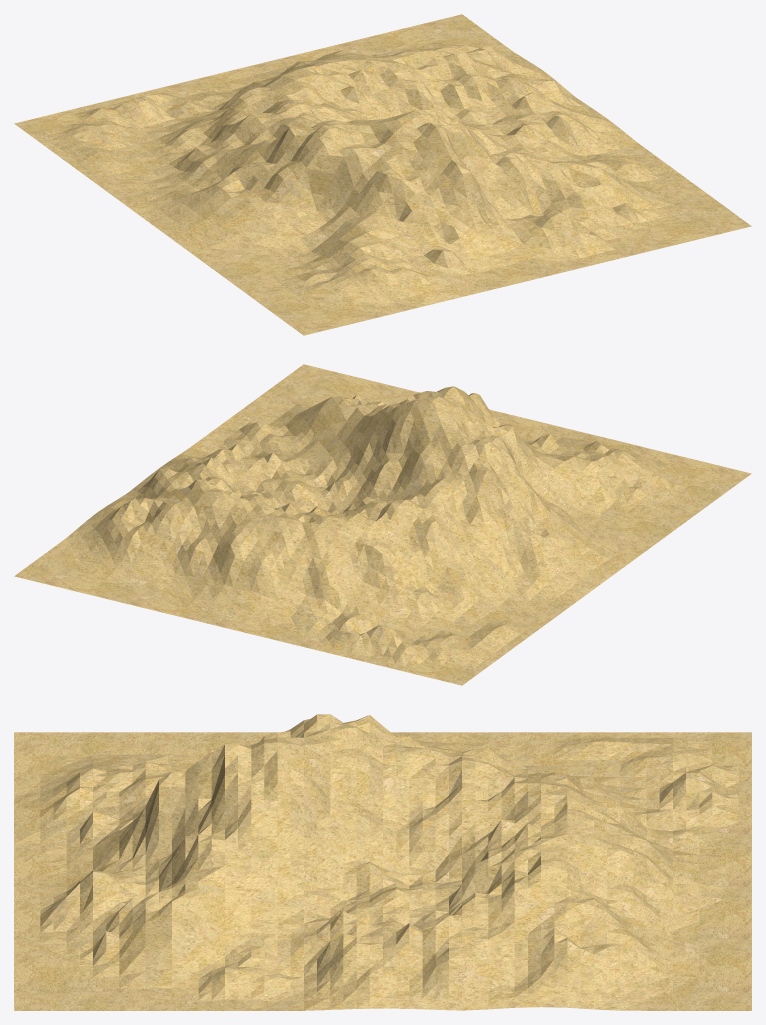
Rendered from hill.dae.
3 renders of one model, top to bottom at view 1: azimuth 30°, elevation 25°; view 2: azimuth 150°, elevation 25°; view 3: azimuth 270°, elevation 25°, orthographic. The views are drawn at different scales.
Parts seen in each view (by area): view 1: skp9C4C; view 2: skp9C4C; view 3: skp9C4C.
Boxes of the visible parts, box(x1,y1,x2,y2) form: skp9C4C: box(14, 14, 751, 335); skp9C4C: box(14, 364, 751, 685); skp9C4C: box(14, 714, 751, 1010).
Size of the model in its own units: 12644 by 14161 by 2668.
Materials: 1 (1 with a texture image).
